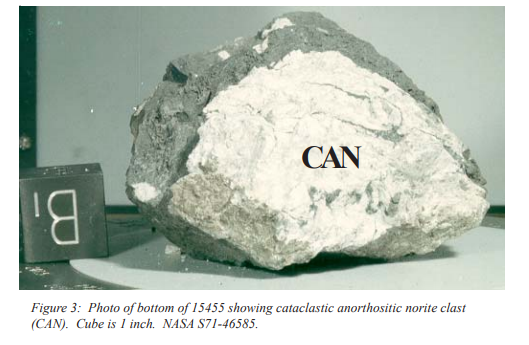Breccia: (132, 24, 491, 265)
